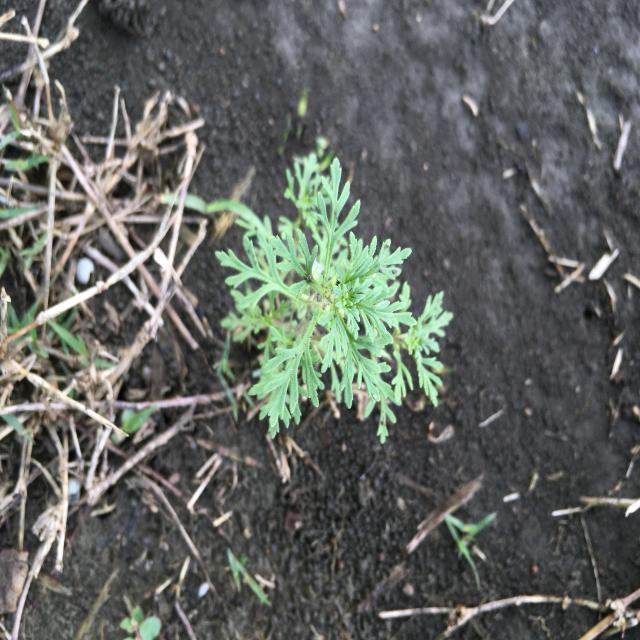Ragweed: (214, 150, 456, 448)
